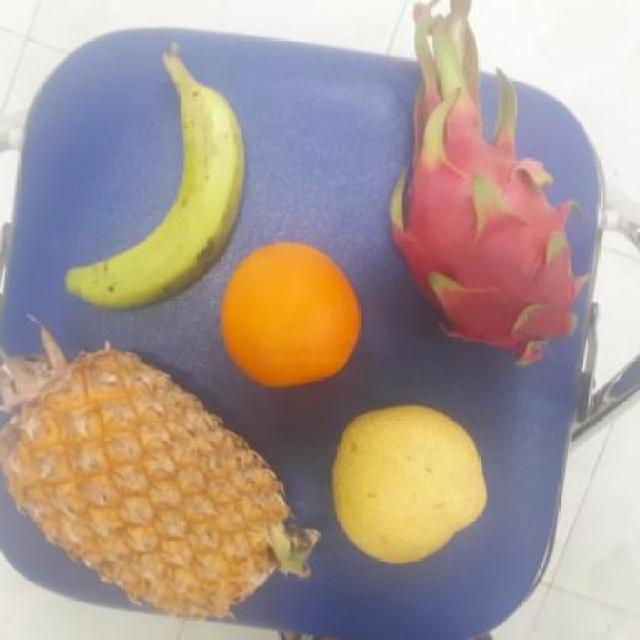banana: (77, 64, 241, 311)
dragon fruit: (380, 78, 594, 354)
oren: (216, 241, 362, 384)
pear: (326, 400, 492, 558)
pineapple: (0, 341, 306, 617)
